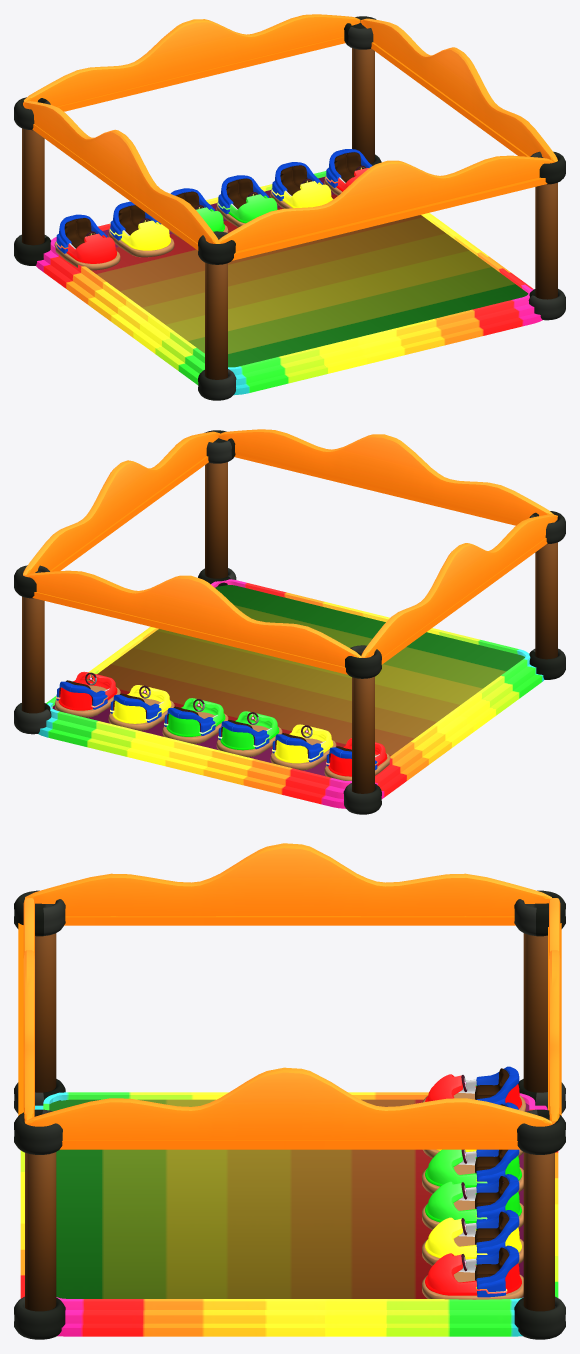
File: grid22-karousel4.glb
The picture shows the model from 3 angles, top to bottom: view 1: azimuth 30°, elevation 25°; view 2: azimuth 150°, elevation 25°; view 3: azimuth 270°, elevation 25°; orthographic projection. The views are drawn at different scales.
Parts seen in each view (by area): view 1: area_low, frame_low, column_low, tyre_low.005, auto.zadek_low_GreenCar_0.003, auto.zadek_low_GreenCar_0.002, tyre_low.003, auto.zadek_low_GreenCar_0.005, auto.zadek_low_GreenCar_0.004, auto.zadek_low_GreenCar_0.001, auto.zadek_low; view 2: area_low, frame_low, column_low, tyre_low.005, tyre_low.003, auto.zadek_low, auto.zadek_low_GreenCar_0.002, auto.zadek_low_GreenCar_0.005, auto.zadek_low_GreenCar_0.004, auto.zadek_low_GreenCar_0.001, auto.zadek_low_GreenCar_0.003; view 3: area_low, frame_low, column_low, tyre_low.005, auto.zadek_low_GreenCar_0.001, tyre_low.003, auto.zadek_low_GreenCar_0.004, auto.zadek_low_GreenCar_0.005, auto.zadek_low, auto.zadek_low_GreenCar_0.003.
Part boxes in pixels (x1,y1,x2,y2): area_low: [36, 171, 542, 395]; frame_low: [23, 14, 557, 260]; column_low: [22, 48, 557, 379]; tyre_low.005: [14, 16, 565, 264]; auto.zadek_low_GreenCar_0.003: [54, 214, 120, 270]; auto.zadek_low_GreenCar_0.002: [108, 201, 174, 257]; tyre_low.003: [14, 154, 565, 400]; auto.zadek_low_GreenCar_0.005: [270, 162, 333, 208]; auto.zadek_low_GreenCar_0.004: [216, 175, 277, 227]; auto.zadek_low_GreenCar_0.001: [324, 149, 372, 195]; auto.zadek_low: [169, 188, 228, 240]; area_low: [38, 579, 544, 808]; frame_low: [23, 429, 557, 674]; column_low: [22, 462, 557, 793]; tyre_low.005: [14, 430, 565, 678]; tyre_low.003: [14, 568, 565, 814]; auto.zadek_low: [216, 711, 282, 757]; auto.zadek_low_GreenCar_0.002: [270, 724, 336, 770]; auto.zadek_low_GreenCar_0.005: [108, 685, 174, 730]; auto.zadek_low_GreenCar_0.004: [162, 698, 228, 743]; auto.zadek_low_GreenCar_0.001: [55, 671, 120, 717]; auto.zadek_low_GreenCar_0.003: [324, 738, 390, 780]; area_low: [20, 1092, 558, 1336]; frame_low: [18, 843, 561, 1149]; column_low: [25, 933, 554, 1311]; tyre_low.005: [14, 890, 565, 1154]; auto.zadek_low_GreenCar_0.001: [422, 1245, 523, 1299]; tyre_low.003: [14, 1079, 565, 1339]; auto.zadek_low_GreenCar_0.004: [422, 1174, 523, 1229]; auto.zadek_low_GreenCar_0.005: [422, 1210, 523, 1265]; auto.zadek_low: [422, 1149, 523, 1193]; auto.zadek_low_GreenCar_0.003: [422, 1066, 525, 1111].
Bounding box in the file's own units: 1.68 × 0.8627 × 1.63.
Materials: 1 (1 with a texture image).
